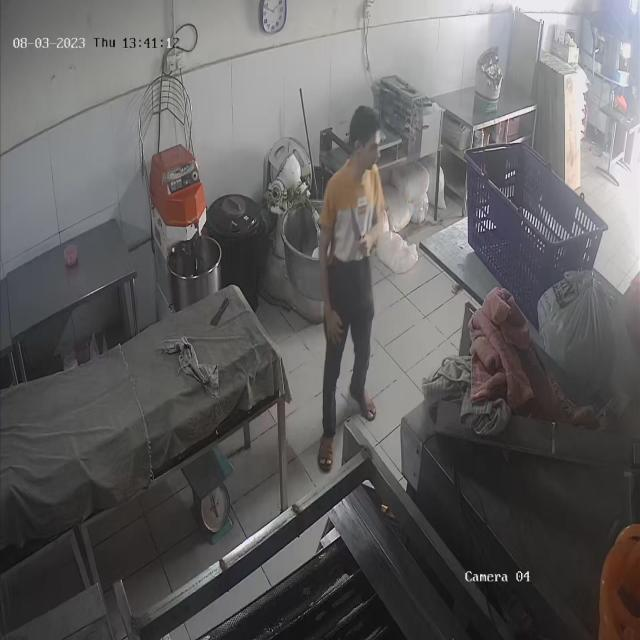Knife: (341, 197, 374, 255)
